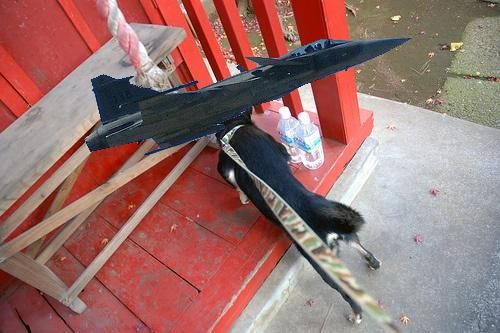tampered: (85, 37, 416, 155)
